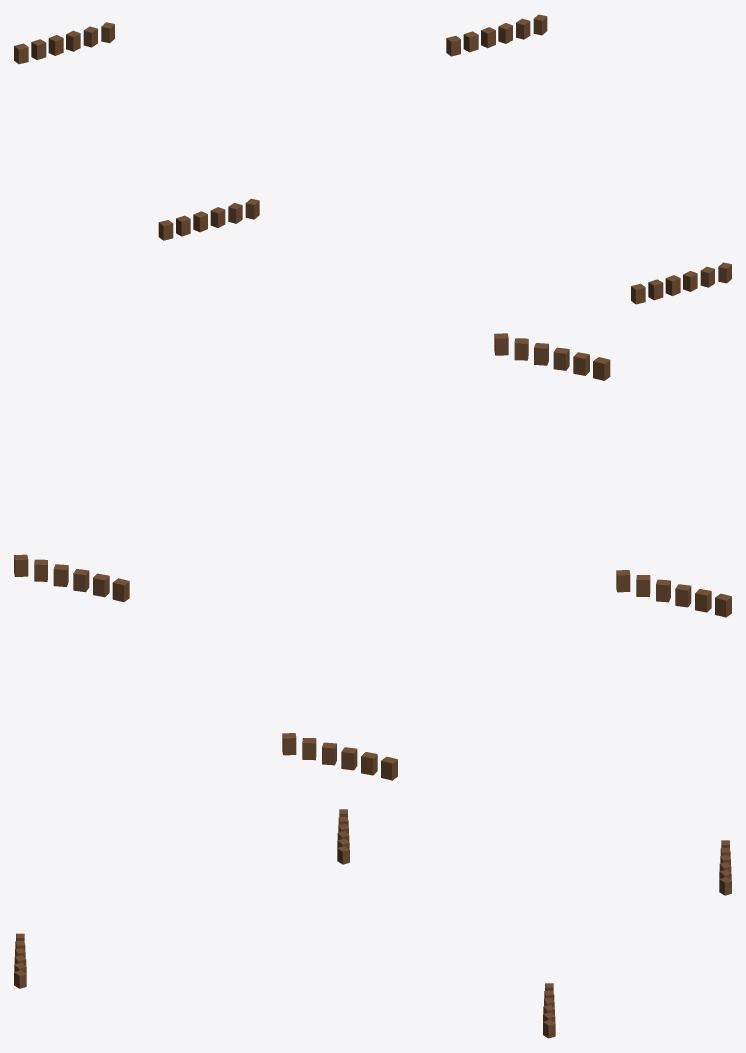
Rendered from TempleDistrict_Timber_1.fbx.
The picture shows the model from 3 angles, top to bottom: view 1: azimuth 30°, elevation 25°; view 2: azimuth 150°, elevation 25°; view 3: azimuth 270°, elevation 25°; orthographic projection. The views are drawn at different scales.
Parts seen in each view (by area): view 1: TempleDistrict_Timber_1; view 2: TempleDistrict_Timber_1; view 3: TempleDistrict_Timber_1.
Boxes of the visible parts, left/top/right/bottom form: TempleDistrict_Timber_1: left=14, top=14, right=731, bottom=304; TempleDistrict_Timber_1: left=14, top=333, right=731, bottom=780; TempleDistrict_Timber_1: left=14, top=809, right=731, bottom=1038.
Bounding box in the file's own units: 34797 × 1000 × 48868.
